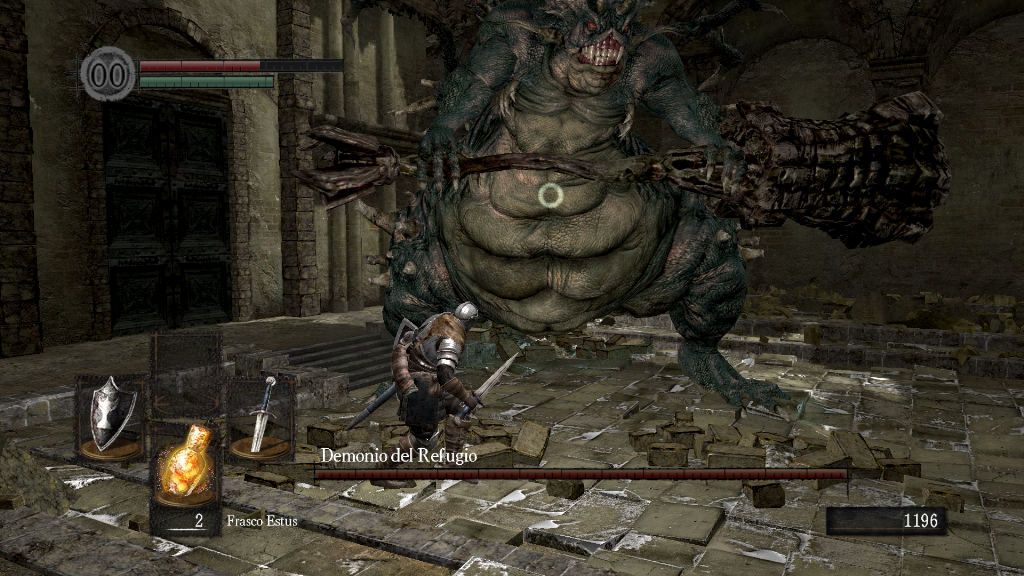asylumDemon: (288, 5, 958, 420)
bossHP: (314, 469, 847, 479)
health: (138, 58, 343, 71)
humanity: (80, 45, 136, 102)
player: (370, 299, 519, 486)
souls: (825, 506, 945, 536)
stamina: (138, 74, 274, 88)
